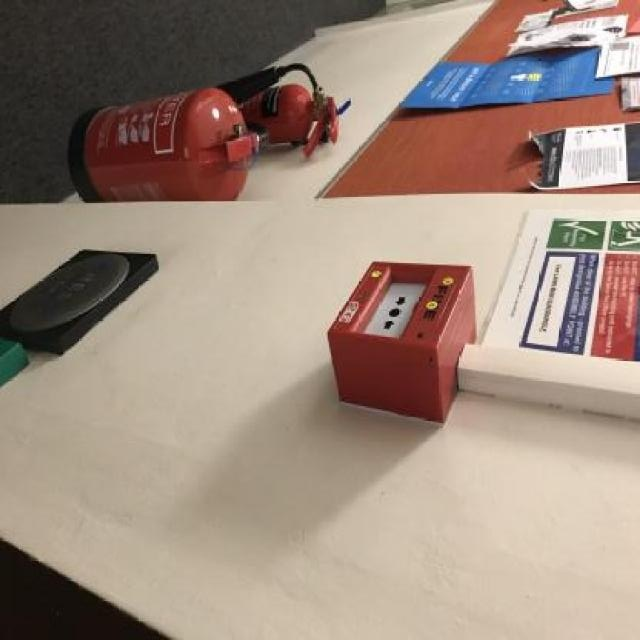fire extinguisher: (69, 84, 269, 204), (218, 64, 340, 161)
